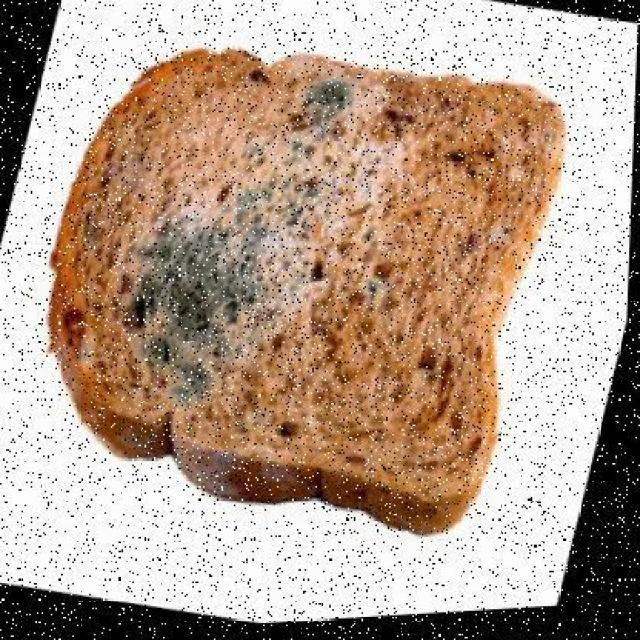mold_bread: (120, 185, 285, 409), (294, 74, 357, 125), (363, 278, 383, 301), (358, 223, 376, 248)
